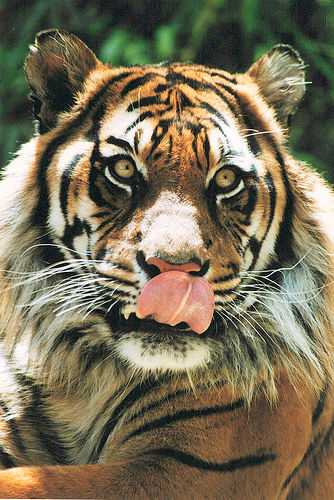Tigre: (10, 13, 318, 468)
